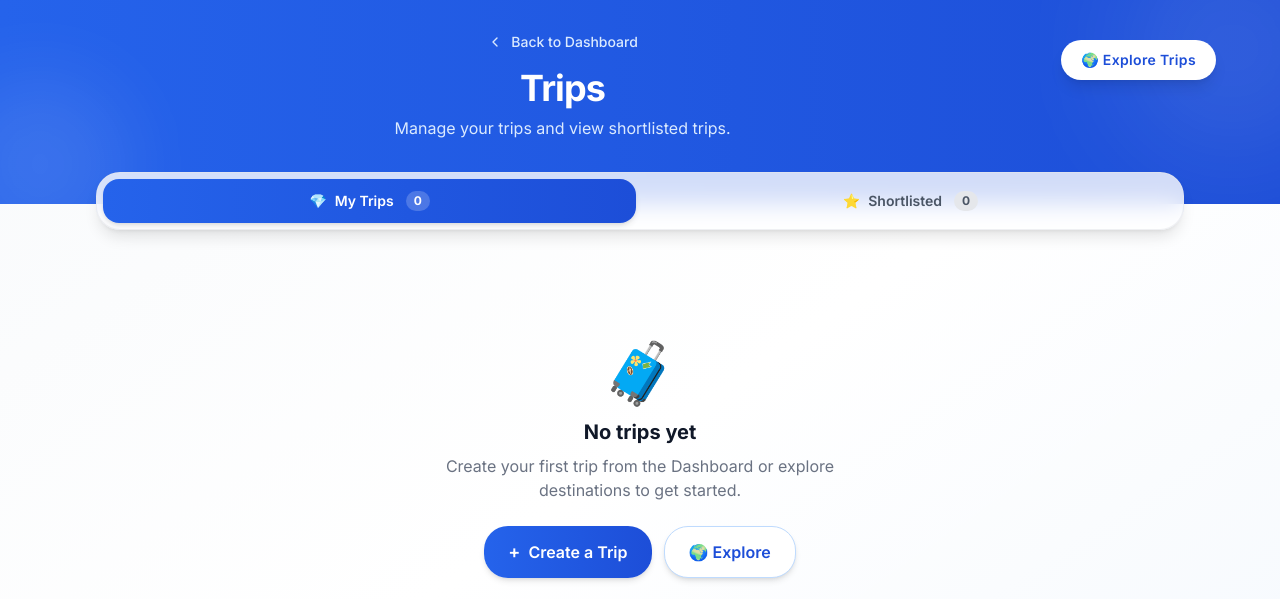
Test: Trips › can switch between My Trips and Shortlisted tabs
Click the button "⭐ Shortlisted 0". click: (910, 201)
box: [644,179,1177,223]
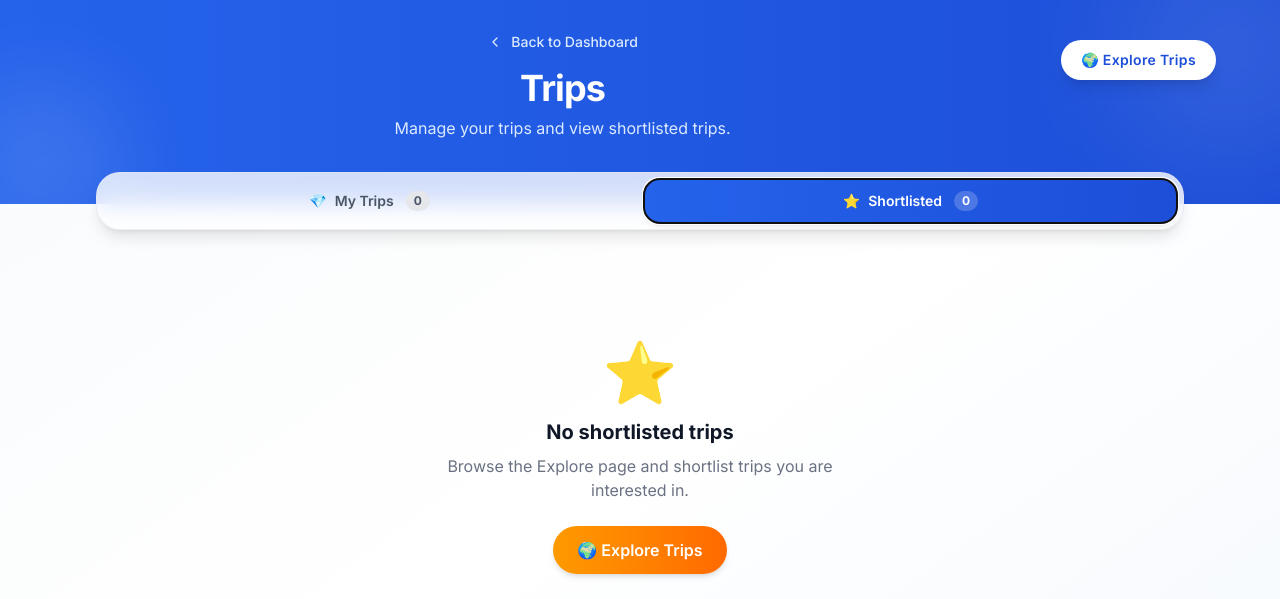
Check: the heading "No shortlisted trips" is shown, box [546,420,734,444]
